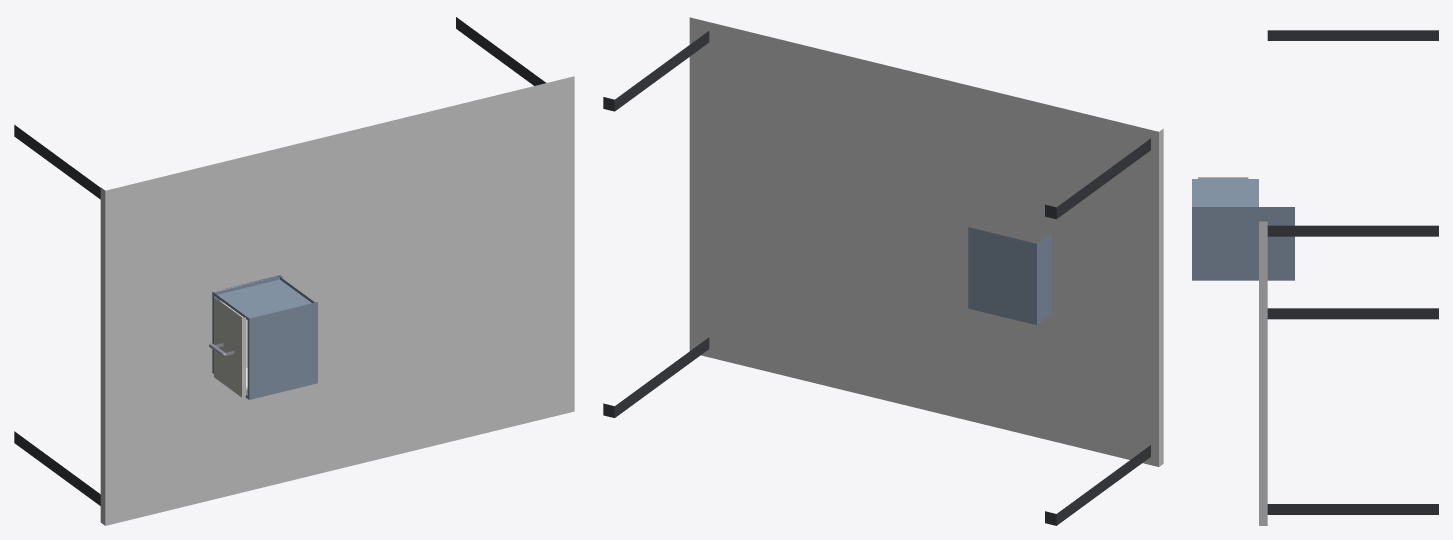
File: t2_198ecaa383.glb
3 views of the same model, side by side, from view 1: azimuth 30°, elevation 25°; view 2: azimuth 150°, elevation 25°; view 3: azimuth 270°, elevation 25° (orthographic). The views are drawn at different scales.
Parts seen in each view (by area): view 1: s0, s1, s2; view 2: s0, s1; view 3: s0, s1.
Part boxes in pixels (x1,y1,x2,y2): s0: [14, 17, 574, 525]; s1: [212, 275, 317, 399]; s2: [209, 298, 247, 397]; s0: [603, 17, 1163, 525]; s1: [968, 227, 1051, 325]; s0: [1259, 30, 1438, 525]; s1: [1192, 179, 1294, 280].
Bounding box in the file's own units: 2.05 × 1.4 × 1.03.
